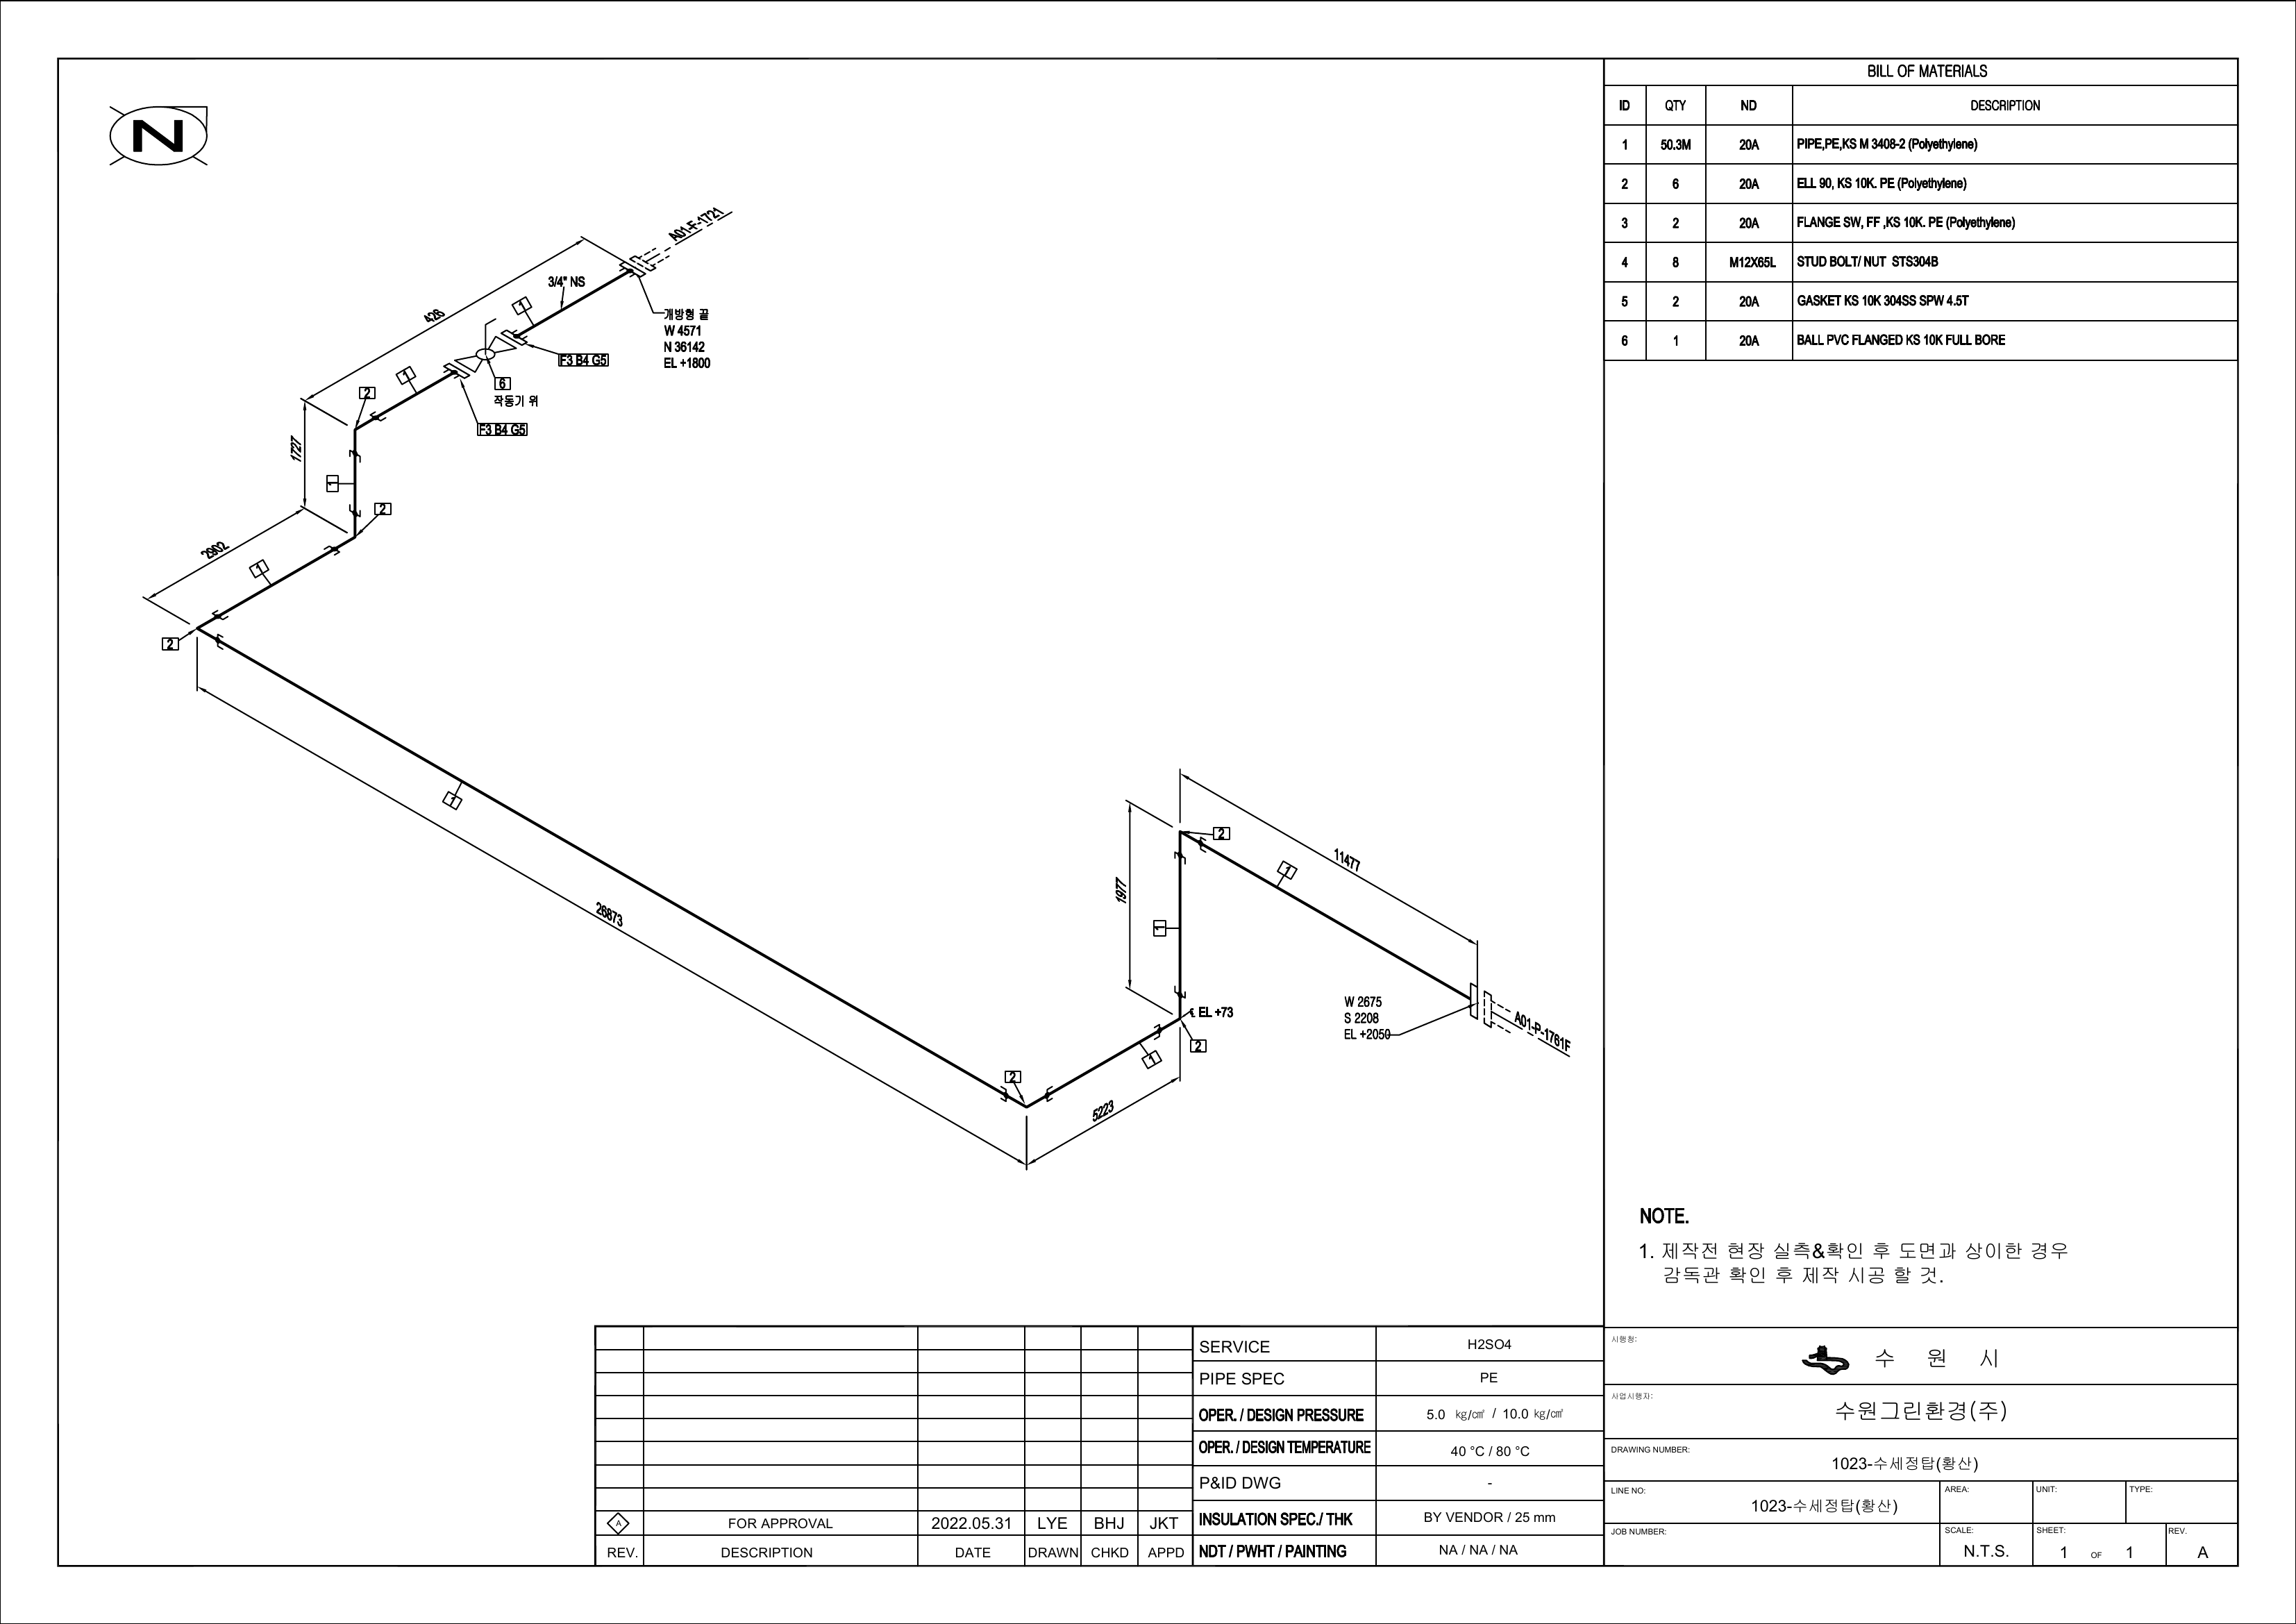table: (1599, 47, 2243, 369)
